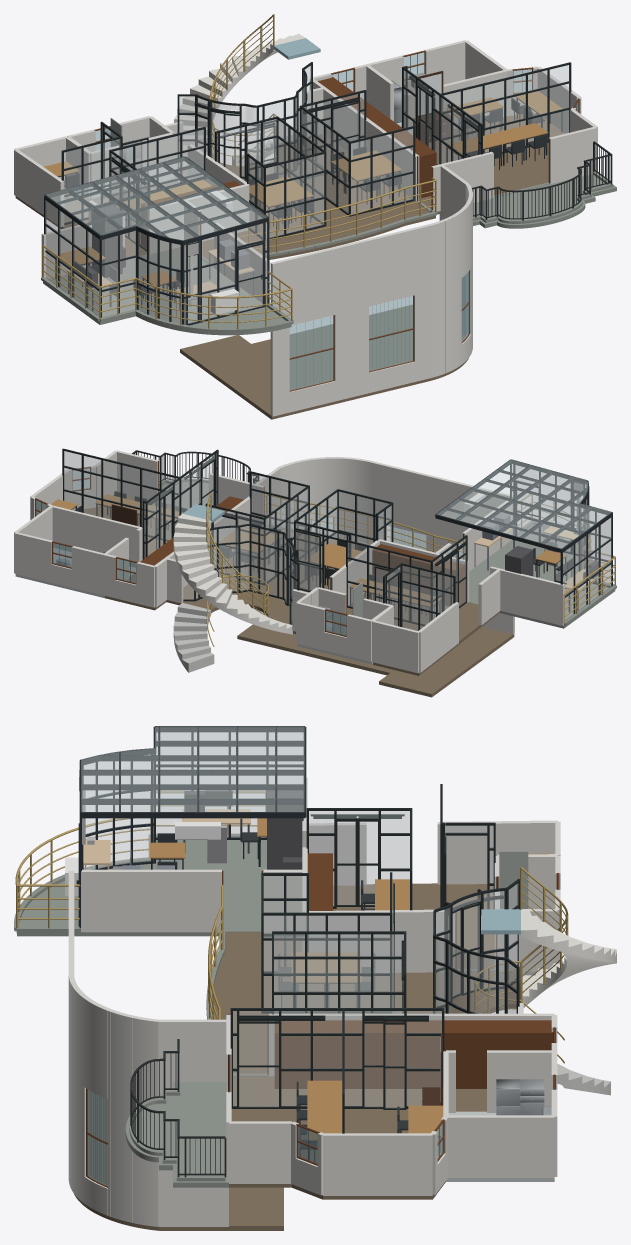
The model's file is first-floor.glb.
The picture shows the model from 3 angles, top to bottom: view 1: azimuth 30°, elevation 25°; view 2: azimuth 150°, elevation 25°; view 3: azimuth 270°, elevation 25°; orthographic projection. The views are drawn at different scales.
Parts seen in each view (by area): view 1: First Floor - Planning Base 08 | joined wall display | web, Duplex context | ground commons floor | web, FF-04 | floor | web, FF-02 | floor | web, FF06 BALCONY B02 | Level balcony slab - estimated outline | , FF-06 | floor | web, PB04 | First Floor - continuous UP flight | web, FF-06 | FF06-CUPBOARD | web, FF02 C03 | Furniture | Rack_42U | web, FF-03 | floor | web, FF04 FF06 P03 T02 | H3 clear 1 | web, FF06 BALCONY B02 | Perimeter low kerb - 80mm assumed section (+7 smaller); view 2: First Floor - Planning Base 08 | joined wall display | web, Duplex context | ground commons floor | web, PB04 | First Floor - continuous UP flight | web, FF-04 | floor | web, FF-02 | floor | web, FF-03 | FF03-CUPBOARD | web, PB04 | First Floor - incoming last 7 steps only | web, FF-03 | floor | web, FF-06 | floor | web, FF02 C03 | Furniture | Rack_42U | web, FF06 BALCONY B02 | Level balcony slab - estimated outline | , FF-06 | FF06-CUPBOARD | web (+34 smaller); view 3: First Floor - Planning Base 08 | joined wall display | web, FF-06 | FF06-CUPBOARD | web, FF-04 | floor | web, FF06 BALCONY B02 | Level balcony slab - estimated outline | , FF-06 | floor | web, FF-02 | floor | web, Duplex context | ground commons floor | web, FF-03 | floor | web, PB04 | First Floor - continuous UP flight | web, FF02 C03 | Furniture | Rack_42U | web, PB04 | Corrected First Floor | storage_cabinet_mid2_F2_3 | w, FF04 FF06 P03 T02 | H2 clear 1 | web (+49 smaller).
Part boxes in pixels (x1,y1,x2,y2): First Floor - Planning Base 08 | joined wall display | web: [14, 40, 597, 416]; Duplex context | ground commons floor | web: [180, 305, 468, 419]; FF-04 | floor | web: [175, 134, 435, 262]; FF-02 | floor | web: [43, 246, 291, 335]; FF06 BALCONY B02 | Level balcony slab - estimated outline | : [473, 174, 616, 228]; FF-06 | floor | web: [419, 113, 564, 214]; PB04 | First Floor - continuous UP flight | web: [174, 34, 305, 165]; FF-06 | FF06-CUPBOARD | web: [318, 76, 436, 198]; FF02 C03 | Furniture | Rack_42U | web: [91, 202, 122, 277]; FF-03 | floor | web: [15, 181, 177, 257]; FF04 FF06 P03 T02 | H3 clear 1 | web: [333, 103, 358, 139]; FF06 BALCONY B02 | Perimeter low kerb - 80mm assumed section: [473, 171, 613, 223]; First Floor - Planning Base 08 | joined wall display | web: [14, 450, 564, 673]; Duplex context | ground commons floor | web: [237, 616, 514, 697]; PB04 | First Floor - continuous UP flight | web: [173, 513, 292, 634]; FF-04 | floor | web: [166, 526, 354, 633]; FF-02 | floor | web: [469, 525, 615, 628]; FF-03 | FF03-CUPBOARD | web: [372, 544, 465, 606]; PB04 | First Floor - incoming last 7 steps only | web: [173, 603, 214, 672]; FF-03 | floor | web: [347, 592, 499, 675]; FF-06 | floor | web: [84, 495, 187, 610]; FF02 C03 | Furniture | Rack_42U | web: [505, 546, 533, 576]; FF06 BALCONY B02 | Level balcony slab - estimated outline | : [159, 481, 208, 507]; FF-06 | FF06-CUPBOARD | web: [136, 496, 243, 582]; First Floor - Planning Base 08 | joined wall display | web: [68, 777, 560, 1226]; FF-06 | FF06-CUPBOARD | web: [274, 1020, 553, 1088]; FF-04 | floor | web: [212, 932, 520, 1073]; FF06 BALCONY B02 | Level balcony slab - estimated outline | : [125, 1082, 228, 1187]; FF-06 | floor | web: [229, 1076, 486, 1199]; FF-02 | floor | web: [16, 840, 266, 936]; Duplex context | ground commons floor | web: [74, 1091, 283, 1230]; FF-03 | floor | web: [333, 883, 494, 968]; PB04 | First Floor - continuous UP flight | web: [521, 909, 616, 1007]; FF02 C03 | Furniture | Rack_42U | web: [267, 790, 303, 869]; PB04 | Corrected First Floor | storage_cabinet_mid2_F2_3 | w: [496, 1079, 544, 1115]; FF04 FF06 P03 T02 | H2 clear 1 | web: [239, 1024, 278, 1065].
Bounding box in the file's own units: 18.49 × 7.81 × 13.13.
